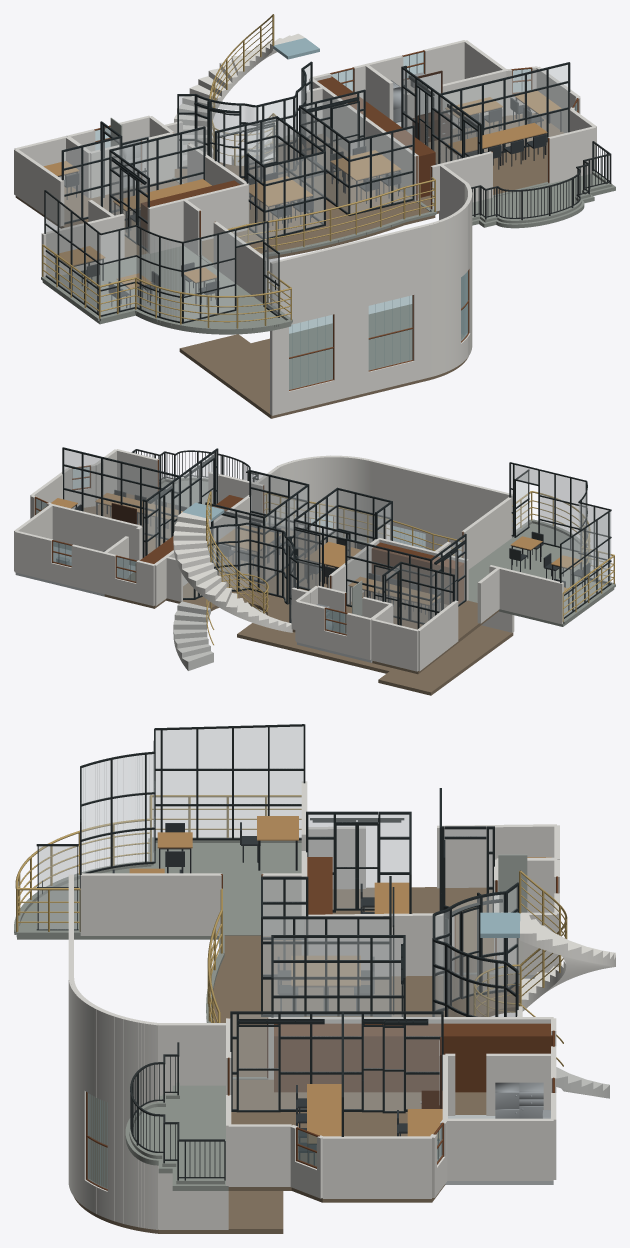
File: first-floor.glb
The picture shows the model from 3 angles, top to bottom: view 1: azimuth 30°, elevation 25°; view 2: azimuth 150°, elevation 25°; view 3: azimuth 270°, elevation 25°; orthographic projection. The views are drawn at different scales.
Visible parts, largest first — view 1: First Floor - Planning Base 08 | joined wall display | web, Duplex context | ground commons floor | web, FF-02 | floor | web, FF-04 | floor | web, FF06 BALCONY B02 | Level balcony slab - estimated outline | , FF-06 | floor | web, PB04 | First Floor - continuous UP flight | web, FF-06 | FF06-CUPBOARD | web, FF-03 | floor | web, FF02 P01 | Contour glass 33-upper | web, FF02 P01 | Crossline fixed 1 glass 0-upper | web, FF02 P01 | Crossline fixed 1 glass 0-1 | web (+12 smaller); view 2: First Floor - Planning Base 08 | joined wall display | web, Duplex context | ground commons floor | web, PB04 | First Floor - continuous UP flight | web, FF-02 | floor | web, FF-04 | floor | web, FF-03 | FF03-CUPBOARD | web, PB04 | First Floor - incoming last 7 steps only | web, FF-03 | floor | web, FF02 P01 | Contour glass 33-upper | web, FF02 P01 | Crossline fixed 1 glass 0-upper | web, FF-06 | floor | web, FF02 P01 | Contour glass 33-1 | web (+31 smaller); view 3: First Floor - Planning Base 08 | joined wall display | web, FF-06 | FF06-CUPBOARD | web, FF-04 | floor | web, FF-02 | floor | web, FF06 BALCONY B02 | Level balcony slab - estimated outline | , FF-06 | floor | web, FF02 P01 | Contour glass 33-upper | web, Duplex context | ground commons floor | web, FF02 P01 | Contour glass 33-1 | web, FF-03 | floor | web, PB04 | First Floor - continuous UP flight | web, FF02 P01 | Contour glass 33-0 | web (+37 smaller).
Part boxes in pixels (x1,y1,x2,y2): First Floor - Planning Base 08 | joined wall display | web: (14, 40, 596, 415); Duplex context | ground commons floor | web: (179, 304, 468, 418); FF-02 | floor | web: (42, 246, 291, 334); FF-04 | floor | web: (174, 134, 435, 262); FF06 BALCONY B02 | Level balcony slab - estimated outline | : (472, 173, 615, 228); FF-06 | floor | web: (418, 113, 563, 213); PB04 | First Floor - continuous UP flight | web: (174, 33, 304, 165); FF-06 | FF06-CUPBOARD | web: (317, 76, 435, 197); FF-03 | floor | web: (15, 179, 179, 257); FF02 P01 | Contour glass 33-upper | web: (45, 192, 100, 263); FF02 P01 | Crossline fixed 1 glass 0-upper | web: (184, 231, 234, 269); FF02 P01 | Crossline fixed 1 glass 0-1 | web: (184, 260, 234, 296); First Floor - Planning Base 08 | joined wall display | web: (14, 449, 563, 671); Duplex context | ground commons floor | web: (237, 614, 513, 695); PB04 | First Floor - continuous UP flight | web: (173, 512, 292, 632); FF-02 | floor | web: (468, 523, 614, 626); FF-04 | floor | web: (166, 525, 354, 632); FF-03 | FF03-CUPBOARD | web: (371, 542, 464, 604); PB04 | First Floor - incoming last 7 steps only | web: (173, 601, 213, 670); FF-03 | floor | web: (346, 591, 498, 674); FF02 P01 | Contour glass 33-upper | web: (562, 512, 610, 572); FF02 P01 | Crossline fixed 1 glass 0-upper | web: (540, 471, 585, 504); FF-06 | floor | web: (83, 493, 187, 608); FF02 P01 | Contour glass 33-1 | web: (562, 539, 610, 594); First Floor - Planning Base 08 | joined wall display | web: (68, 781, 559, 1229); FF-06 | FF06-CUPBOARD | web: (274, 1023, 552, 1092); FF-04 | floor | web: (211, 935, 519, 1076); FF-02 | floor | web: (16, 843, 301, 939); FF06 BALCONY B02 | Level balcony slab - estimated outline | : (125, 1085, 228, 1190); FF-06 | floor | web: (228, 1079, 486, 1202); FF02 P01 | Contour glass 33-upper | web: (156, 726, 303, 768); Duplex context | ground commons floor | web: (74, 1094, 283, 1233); FF02 P01 | Contour glass 33-1 | web: (156, 771, 303, 803); FF-03 | floor | web: (332, 887, 493, 972); PB04 | First Floor - continuous UP flight | web: (520, 912, 615, 1011); FF02 P01 | Contour glass 33-0 | web: (156, 806, 301, 837).
Bounding box in the file's own units: 18.49 × 7.81 × 13.13.
